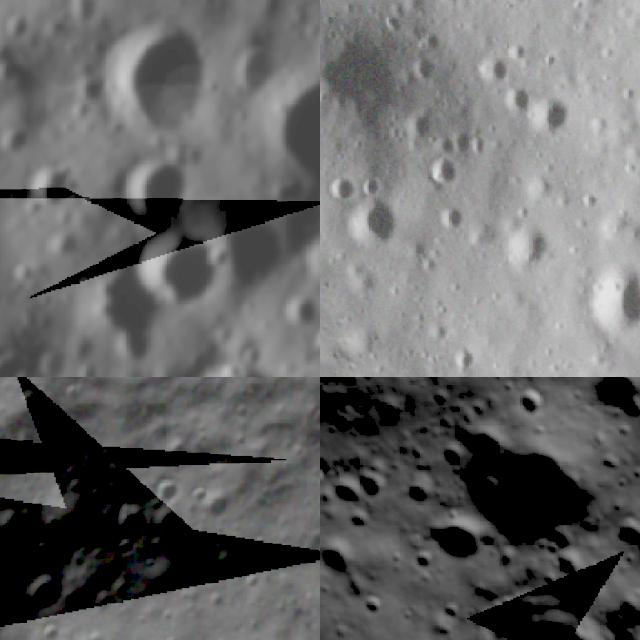crater: (425, 379, 634, 592), (81, 0, 247, 155), (320, 0, 439, 149), (442, 551, 640, 640), (125, 209, 239, 322), (199, 184, 312, 294), (103, 127, 208, 231), (254, 43, 320, 192), (567, 256, 640, 359), (419, 499, 501, 581), (166, 329, 300, 377), (334, 189, 412, 266), (14, 142, 91, 219), (224, 25, 297, 104), (490, 208, 567, 282), (517, 85, 588, 161), (12, 560, 73, 621), (100, 491, 158, 551), (23, 329, 89, 377), (586, 377, 640, 432), (426, 195, 480, 248), (137, 495, 190, 549), (546, 540, 598, 594), (195, 481, 246, 534), (418, 146, 468, 200), (0, 106, 42, 168), (469, 46, 517, 98), (510, 378, 560, 427), (0, 326, 48, 377), (0, 0, 46, 51), (494, 78, 540, 129), (55, 0, 122, 35), (279, 276, 320, 333), (320, 532, 364, 584), (600, 505, 640, 562), (349, 460, 396, 508), (320, 167, 367, 213), (352, 584, 398, 630), (394, 471, 439, 517), (431, 433, 476, 478), (444, 334, 489, 377), (371, 387, 414, 432), (146, 470, 188, 512), (404, 542, 444, 582), (299, 219, 320, 295), (328, 474, 366, 511), (434, 590, 471, 627), (199, 580, 235, 618), (342, 501, 378, 538), (106, 530, 142, 565), (182, 477, 214, 510), (27, 613, 66, 640), (304, 299, 320, 356), (320, 452, 338, 501), (328, 377, 368, 395), (320, 163, 333, 214)
